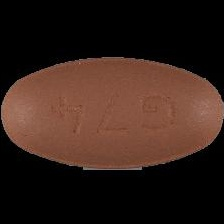10544-035: (0, 0, 224, 224)
